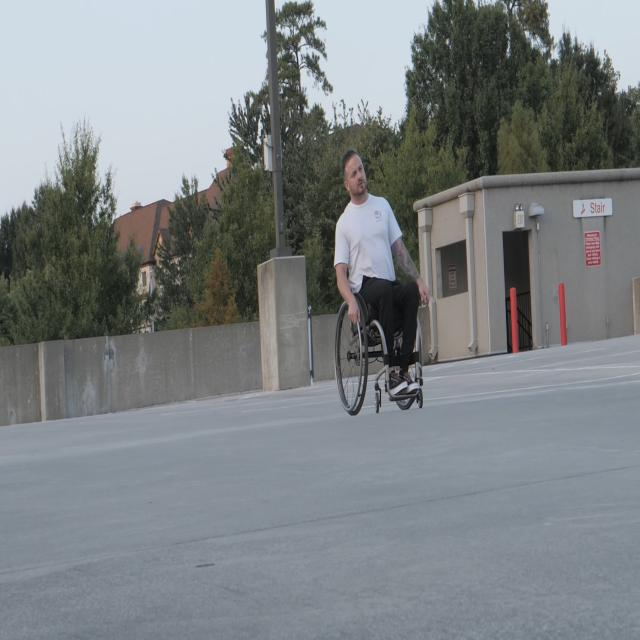wheelchairs: (333, 238, 425, 414)
